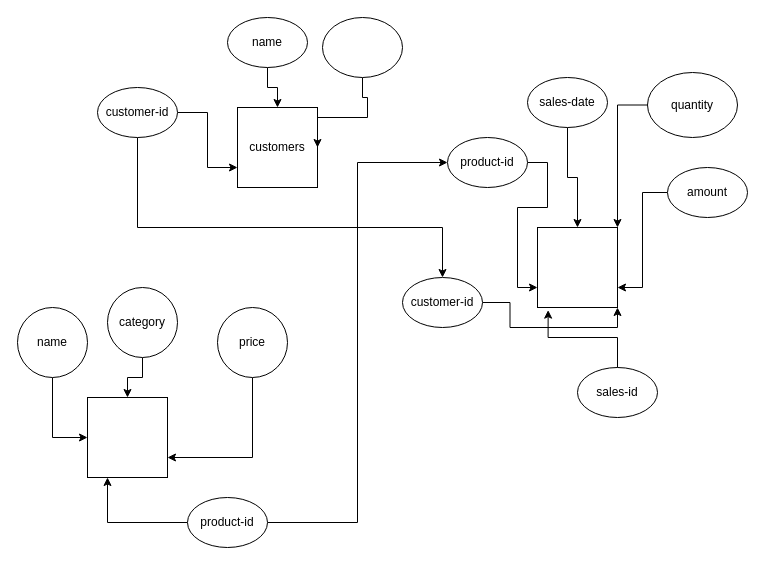
Some shapes in this 765 by 565 pixel diagram are drawn without their labels. Here are the shapes that lost their labels. From the top down, the centre of each, then its label:
At (362,47): "region".
At (577,267): "sales".
At (127,437): "products".
